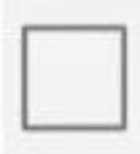CheckBox: (1, 1, 139, 153)
